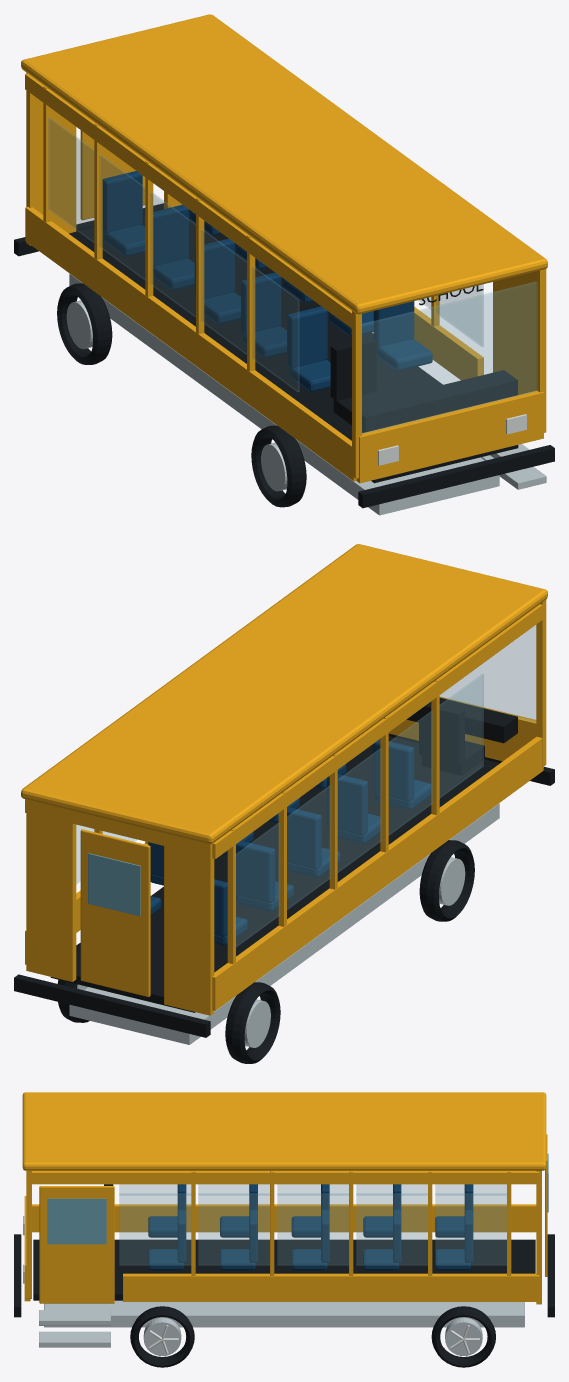
Rendered from edited.glb.
3 views of the same model, one above another, from view 1: azimuth 30°, elevation 25°; view 2: azimuth 150°, elevation 25°; view 3: azimuth 270°, elevation 25° (orthographic). The views are drawn at different scales.
Visible parts, largest first — view 1: PASSENGER_Roof, FRONT_Windscreen, BODY_LeftSill, PASSENGER_Floor, FRONT_Panel, BODY_UpperRail.001, CHASSIS, REAR_Pier, ENTRY_Leaf, PASSENGER_Window, DASHBOARD, PASSENGER_Window.004 (+32 smaller); view 2: PASSENGER_Roof, BODY_LeftSill, PASSENGER_Floor, EMERGENCY_Leaf, REAR_Pier.001, REAR_Pier, BODY_UpperRail.001, CHASSIS, FRONT_Windscreen, PASSENGER_Window.001, PASSENGER_Window, PASSENGER_Window.003 (+25 smaller); view 3: PASSENGER_Roof, BODY_RightSill, PASSENGER_Floor, CHASSIS, BODY_LeftSill, BODY_UpperRail, ENTRY_Leaf, PASSENGER_Window.005, PASSENGER_Window.006, PASSENGER_Window.007, PASSENGER_Window.008, PASSENGER_Window.009 (+37 smaller).
Part boxes in pixels (box(x1,y1,x2,y2)): PASSENGER_Roof: box(21, 14, 547, 314); FRONT_Windscreen: box(362, 281, 537, 433); BODY_LeftSill: box(25, 207, 356, 481); PASSENGER_Floor: box(69, 209, 518, 483); FRONT_Panel: box(356, 391, 543, 483); BODY_UpperRail.001: box(25, 73, 353, 328); CHASSIS: box(69, 273, 499, 515); REAR_Pier: box(26, 90, 76, 245); ENTRY_Leaf: box(493, 274, 536, 394); PASSENGER_Window: box(252, 266, 299, 391); DASHBOARD: box(362, 370, 517, 432); PASSENGER_Window.004: box(48, 117, 93, 242); PASSENGER_Roof: box(21, 544, 547, 843); BODY_LeftSill: box(212, 736, 543, 1010); PASSENGER_Floor: box(50, 736, 499, 1012); EMERGENCY_Leaf: box(80, 829, 150, 996); REAR_Pier.001: box(26, 812, 76, 981); REAR_Pier: box(164, 846, 214, 1015); BODY_UpperRail.001: box(212, 604, 543, 858); CHASSIS: box(69, 803, 499, 1044); FRONT_Windscreen: box(440, 625, 535, 722); PASSENGER_Window.001: box(389, 711, 432, 834); PASSENGER_Window: box(440, 674, 483, 797); PASSENGER_Window.003: box(287, 786, 330, 909); PASSENGER_Roof: box(22, 1092, 546, 1170); BODY_RightSill: box(123, 1273, 539, 1301); PASSENGER_Floor: box(33, 1239, 535, 1300); CHASSIS: box(44, 1300, 524, 1327); BODY_LeftSill: box(32, 1204, 536, 1232); BODY_UpperRail: box(30, 1170, 539, 1184); ENTRY_Leaf: box(39, 1186, 114, 1303); PASSENGER_Window.005: box(119, 1193, 190, 1265); PASSENGER_Window.006: box(198, 1193, 269, 1265); PASSENGER_Window.007: box(277, 1193, 348, 1265); PASSENGER_Window.008: box(356, 1193, 427, 1265); PASSENGER_Window.009: box(435, 1193, 506, 1265).
Size of the model in its own units: 2.5 by 3.18 by 7.54.
